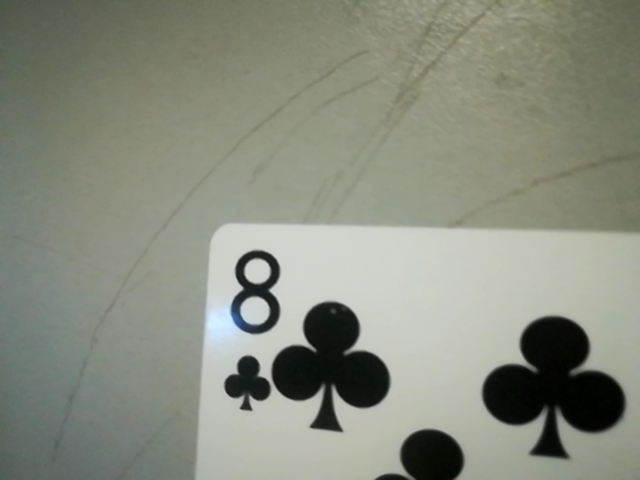mh 8: (210, 235, 286, 423)
